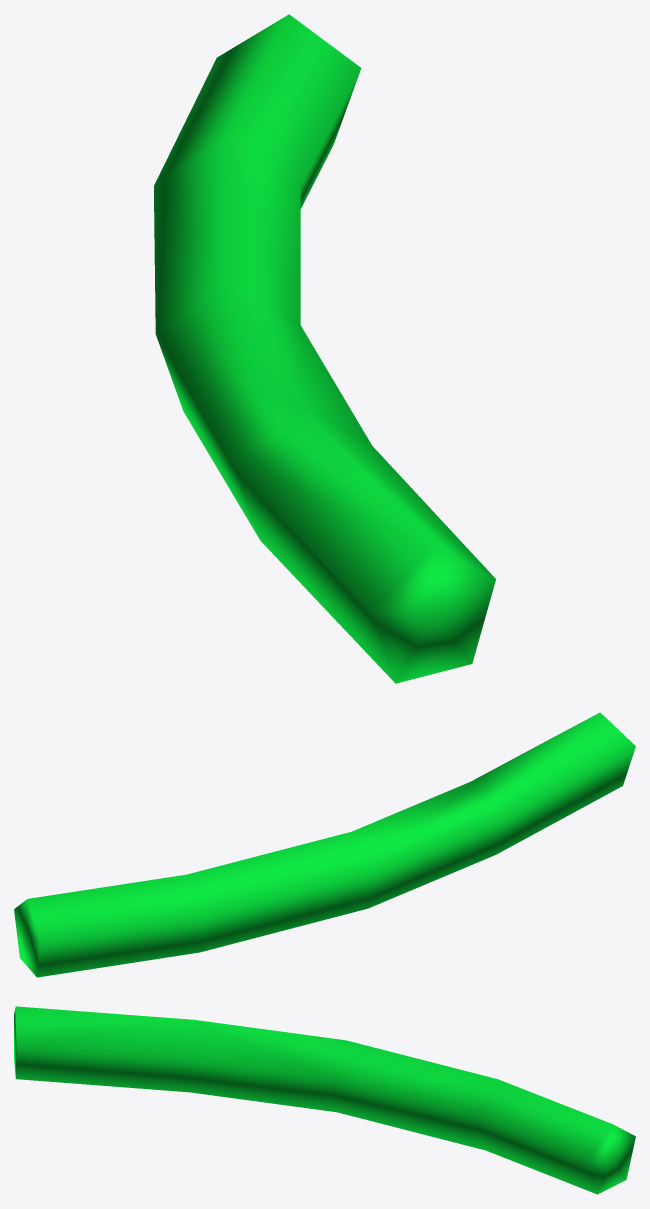
The model's file is Pipe_Turn_45_A_Int.fbx.
3 renders of one model, top to bottom at view 1: azimuth 30°, elevation 25°; view 2: azimuth 150°, elevation 25°; view 3: azimuth 270°, elevation 25°, orthographic. The views are drawn at different scales.
Parts seen in each view (by area): view 1: Pipe_Turn_45_A_Int; view 2: Pipe_Turn_45_A_Int; view 3: Pipe_Turn_45_A_Int.
Boxes of the visible parts, x1,y1,x2,y2 form: Pipe_Turn_45_A_Int: (154, 14, 495, 683); Pipe_Turn_45_A_Int: (14, 712, 635, 977); Pipe_Turn_45_A_Int: (14, 1006, 635, 1194).
Bounding box in the file's own units: 0.9473 × 0.227 × 1.81.
